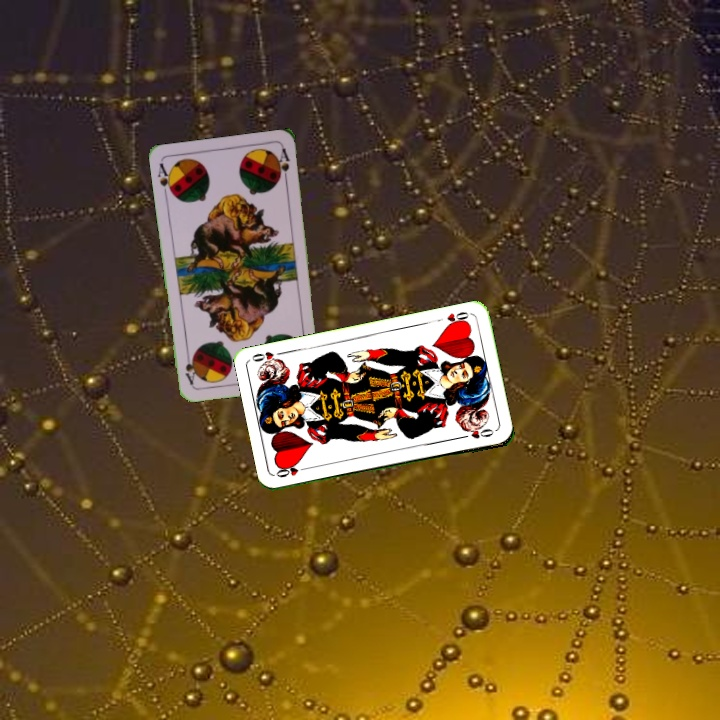HO: (433, 308, 473, 329), (272, 463, 312, 480)
SA: (154, 159, 176, 199)
